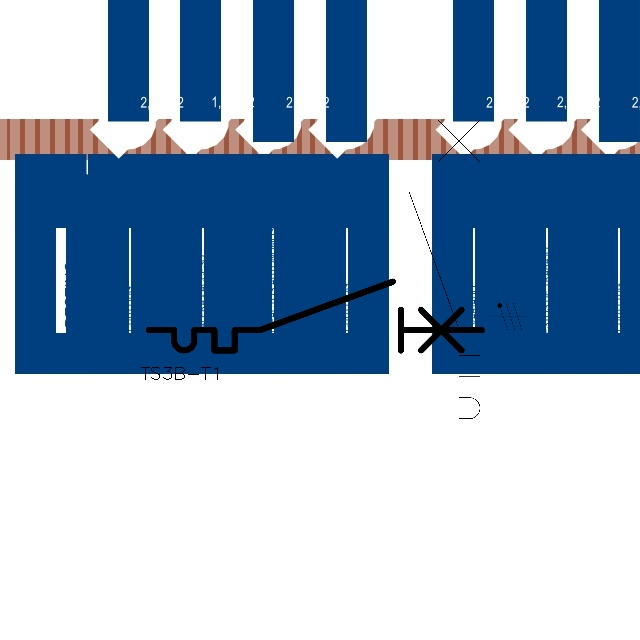interruptor_termomagnetico: (400, 90, 489, 454), (140, 273, 491, 359)
